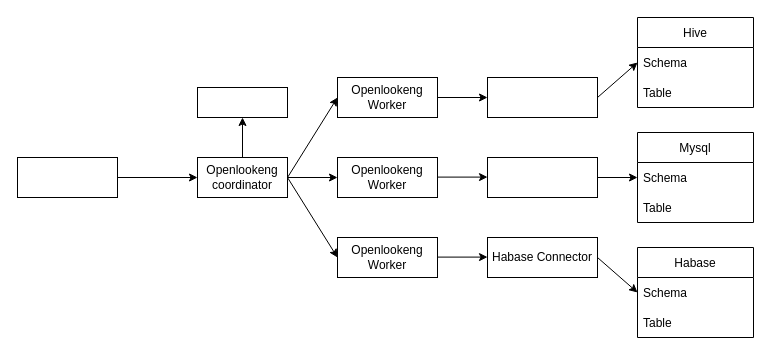
Image size: 771x355. Some labels were removed from this diagram. Here are the shapes that lost their labels. From the top down, the centre of each, then its label:
At (242,102): "Hive Metastore".
At (542,97): "Hive Connector".
At (67,177): "Openlookeng CLI".
At (542,177): "Mysql Connector".
